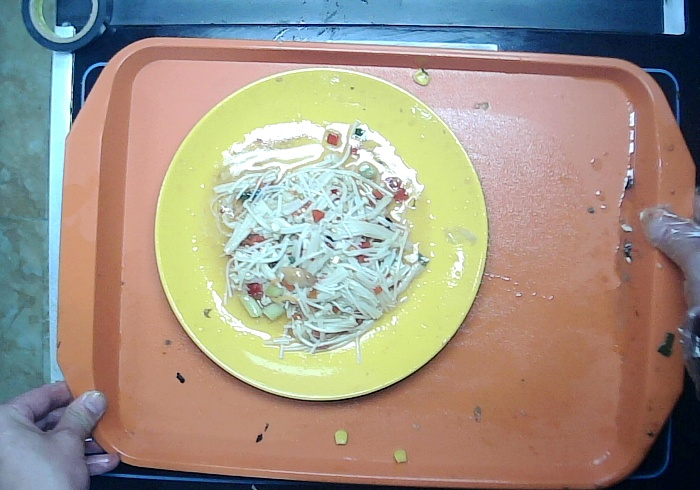HZYJPL-Huang_Se_Yuan_Pan: (154, 64, 491, 408)
